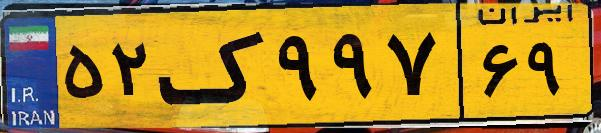2: (110, 28, 158, 98)
5: (57, 26, 110, 100)
6: (475, 38, 525, 113)
7: (385, 28, 445, 110)
9: (270, 28, 330, 110), (330, 28, 385, 110), (525, 38, 570, 115)
ک: (158, 12, 270, 120)
